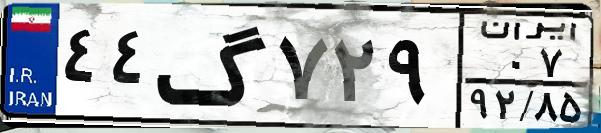0: (508, 27, 537, 80)
2: (330, 28, 385, 110), (495, 70, 520, 125)
4: (57, 26, 110, 100), (110, 28, 156, 98)
5: (560, 70, 590, 125)
7: (270, 28, 330, 110), (537, 27, 568, 80)
8: (535, 70, 560, 125)
9: (385, 28, 445, 110), (470, 70, 495, 125)
گ: (156, 12, 270, 120)
